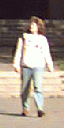person: (18, 15, 49, 114)
